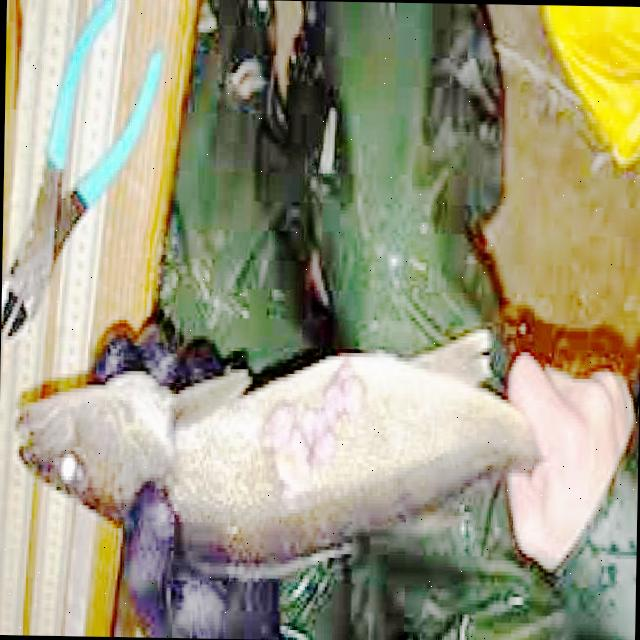Epizootic Ulcerative Syndrome -EUS-: (17, 332, 538, 570)
